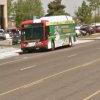Bus: (19, 10, 77, 52)
